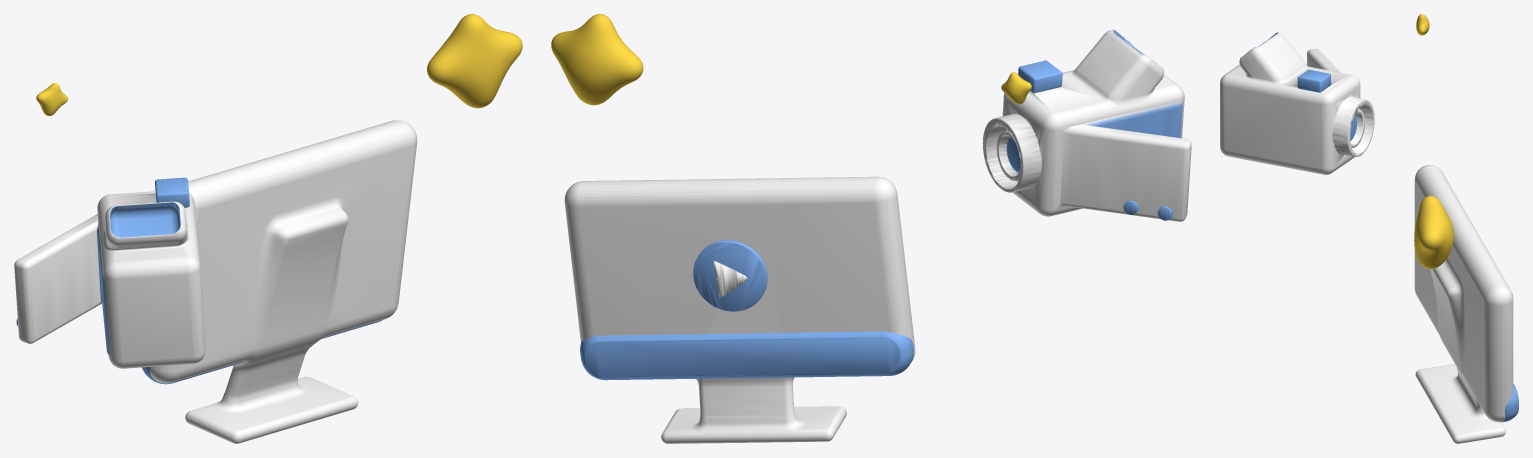
Rendered from oc-camera.glb.
3 views of the same model, side by side, from view 1: azimuth 30°, elevation 25°; view 2: azimuth 150°, elevation 25°; view 3: azimuth 270°, elevation 25° (orthographic). The views are drawn at different scales.
Visible parts, largest first — view 1: 26_09_28_08_31_50_629_0; view 2: 26_09_28_08_31_50_629_0; view 3: 26_09_28_08_31_50_629_0.
Part boxes in pixels (left/top/right/bottom): 26_09_28_08_31_50_629_0: left=14, top=14, right=522, bottom=443; 26_09_28_08_31_50_629_0: left=551, top=14, right=1191, bottom=443; 26_09_28_08_31_50_629_0: left=1220, top=14, right=1518, bottom=443.
Bounding box in the file's own units: 1 × 0.6913 × 0.5978.
Materials: 6 (6 with a texture image).
